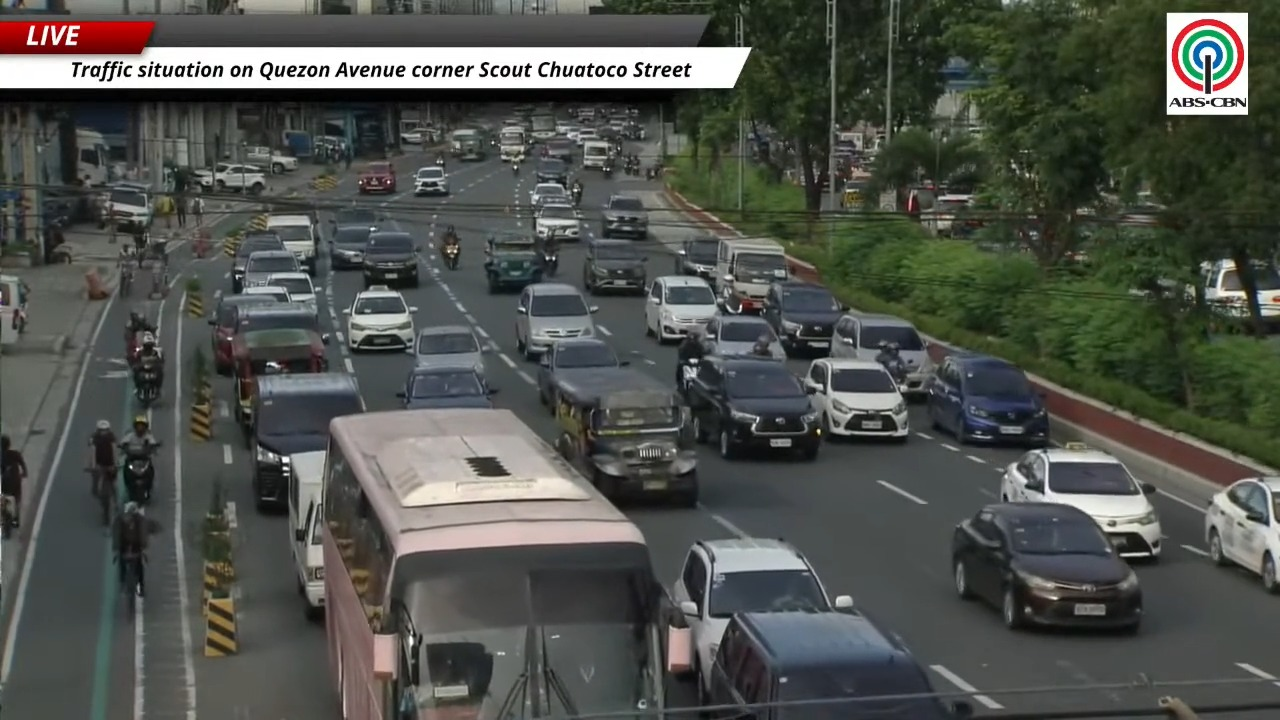bus: (323, 409, 691, 719), (498, 126, 527, 161), (531, 114, 556, 141)
car: (700, 610, 972, 719), (672, 538, 852, 689), (951, 503, 1142, 631), (1000, 443, 1162, 559), (249, 372, 364, 509), (684, 357, 821, 460), (926, 353, 1050, 446), (830, 313, 935, 398), (1204, 476, 1279, 593), (804, 358, 909, 441), (536, 337, 629, 413), (515, 282, 598, 359), (761, 281, 846, 355), (208, 294, 278, 373), (644, 275, 718, 342), (344, 285, 416, 351), (397, 366, 495, 409), (232, 302, 329, 344), (699, 314, 785, 360), (483, 231, 543, 293), (413, 325, 485, 375), (582, 239, 647, 294), (266, 212, 319, 276), (231, 231, 286, 292), (362, 230, 418, 288), (102, 184, 153, 229), (241, 249, 301, 287), (194, 163, 266, 194), (601, 194, 648, 239), (267, 272, 317, 311), (675, 236, 718, 281), (329, 224, 372, 269), (534, 202, 580, 241), (243, 146, 298, 174), (357, 161, 395, 193), (332, 207, 379, 231), (530, 182, 569, 209), (414, 166, 449, 195), (535, 156, 568, 185), (242, 284, 292, 302), (543, 137, 575, 163), (399, 126, 437, 144), (556, 121, 578, 139)
motorcycle: (123, 455, 154, 505), (877, 352, 907, 388), (135, 365, 160, 408), (680, 358, 699, 391), (125, 331, 140, 368), (442, 243, 459, 270), (542, 251, 557, 277), (571, 186, 582, 206), (602, 164, 613, 178), (511, 160, 520, 176), (436, 156, 446, 169)
truck: (715, 237, 788, 313), (75, 127, 109, 186)
